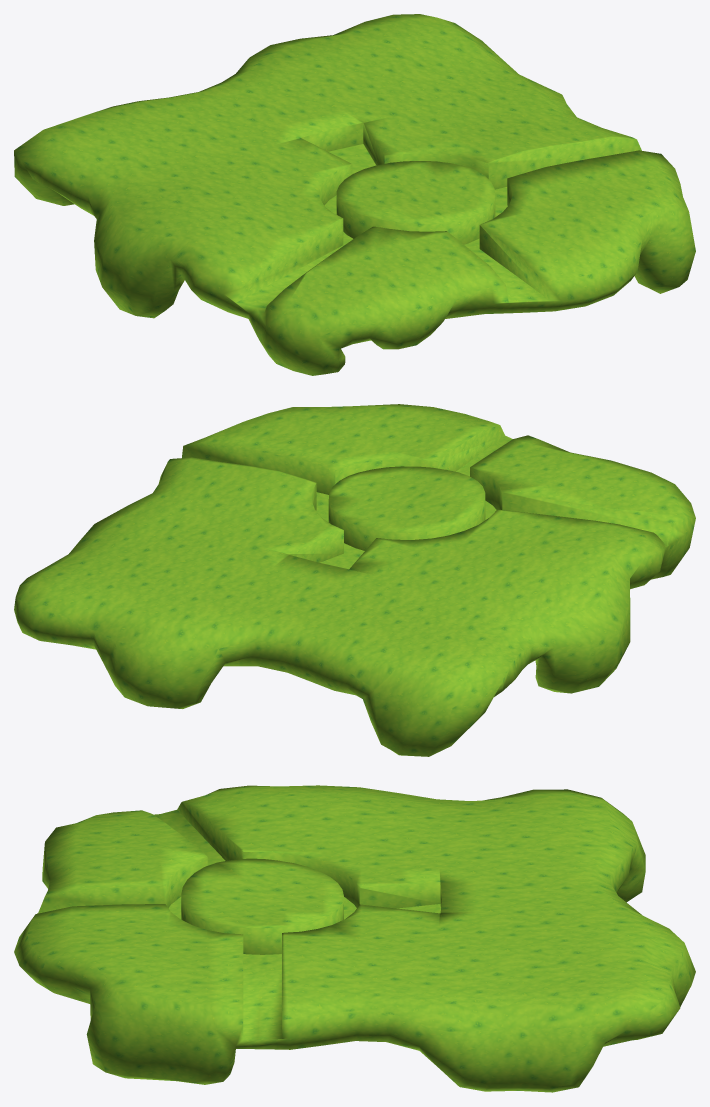
The model's file is Piso_Escenario_Texturizado.fbx.
3 views of the same model, one above another, from view 1: azimuth 30°, elevation 25°; view 2: azimuth 150°, elevation 25°; view 3: azimuth 270°, elevation 25° (orthographic). The views are drawn at different scales.
Parts seen in each view (by area): view 1: SueloV2; view 2: SueloV2; view 3: SueloV2.
Boxes of the visible parts, left/top/right/bottom form: SueloV2: left=14, top=14, right=695, bottom=375; SueloV2: left=14, top=404, right=695, bottom=756; SueloV2: left=14, top=785, right=695, bottom=1092.
Bounding box in the file's own units: 32553 × 6638 × 37323.
Materials: 1 (1 with a texture image).
